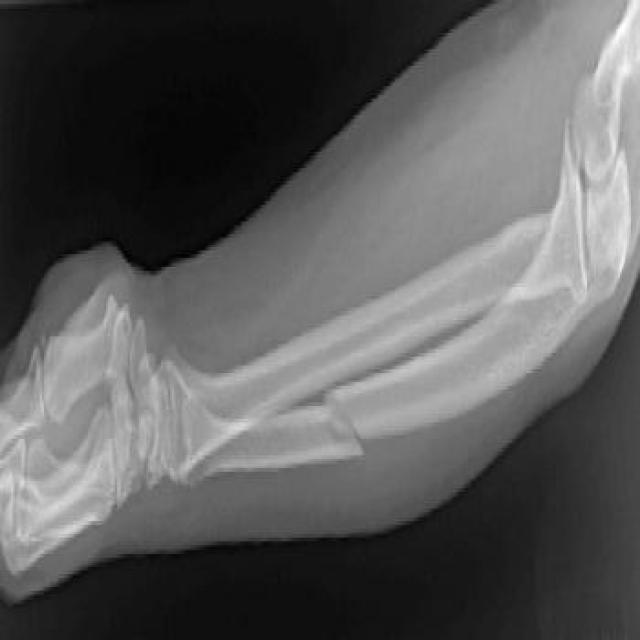fracture: (319, 376, 367, 462)
